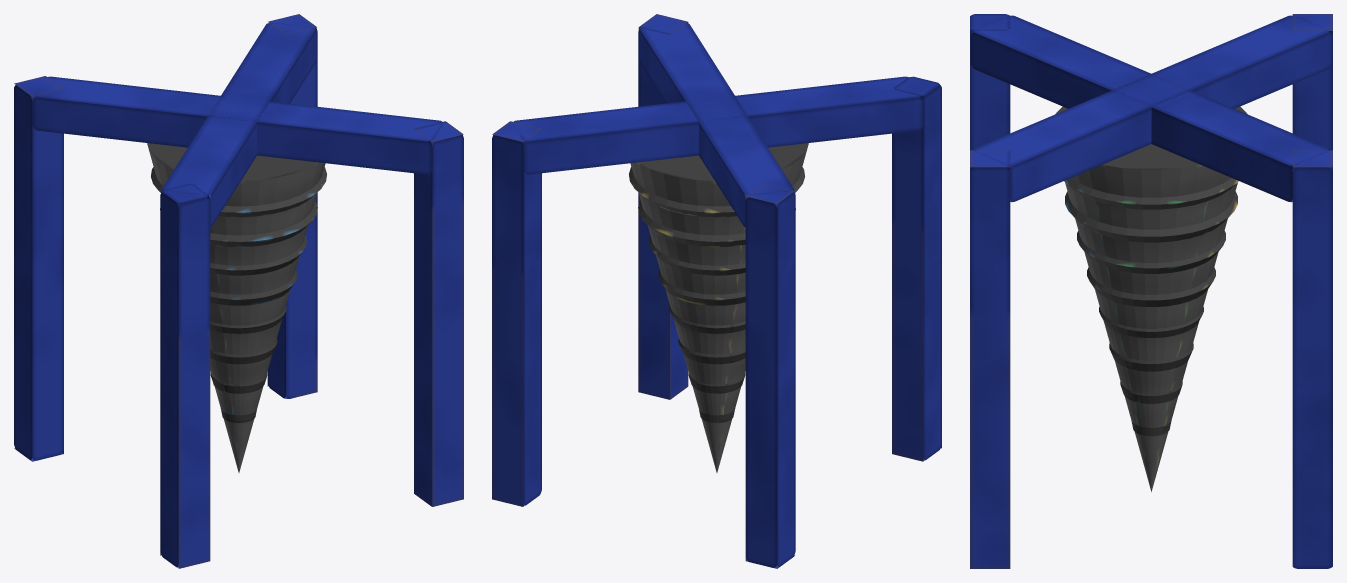
Rendered from drill.fbx.
3 views of the same model, side by side, from view 1: azimuth 30°, elevation 25°; view 2: azimuth 150°, elevation 25°; view 3: azimuth 270°, elevation 25° (orthographic). The views are drawn at different scales.
Parts seen in each view (by area): view 1: cuboid_4, cuboid_1, cuboid_2, cuboid, cone, cuboid_5, cuboid_3, torus, torus_1, torus_3, torus_2, torus_5 (+1 smaller); view 2: cuboid_5, cuboid, cuboid_3, cuboid_1, cone, cuboid_4, cuboid_2, torus, torus_1, torus_3, torus_2, torus_5 (+1 smaller); view 3: cone, cuboid_4, cuboid_5, cuboid_3, cuboid_2, cuboid, cuboid_1, torus_1, torus, torus_2, torus_3, torus_4 (+2 smaller).
Part boxes in pixels (left/top/right/bottom): cuboid_4: left=32, top=76, right=442, bottom=174; cuboid_1: left=160, top=184, right=210, bottom=568; cuboid_2: left=414, top=121, right=463, bottom=506; cuboid: left=14, top=76, right=63, bottom=461; cone: left=147, top=143, right=325, bottom=472; cuboid_5: left=161, top=22, right=317, bottom=227; cuboid_3: left=267, top=14, right=317, bottom=398; torus: left=151, top=167, right=326, bottom=217; torus_1: left=160, top=200, right=317, bottom=247; torus_3: left=210, top=269, right=297, bottom=305; torus_2: left=210, top=236, right=306, bottom=275; torus_5: left=210, top=338, right=277, bottom=364; cuboid_5: left=513, top=76, right=923, bottom=174; cuboid: left=745, top=183, right=795, bottom=568; cuboid_3: left=492, top=121, right=541, bottom=506; cuboid_1: left=892, top=76, right=941, bottom=461; cone: left=630, top=143, right=808, bottom=472; cuboid_4: left=638, top=22, right=795, bottom=227; cuboid_2: left=638, top=14, right=688, bottom=399; torus: left=629, top=167, right=804, bottom=217; torus_1: left=638, top=200, right=795, bottom=247; torus_3: left=658, top=269, right=745, bottom=305; torus_2: left=649, top=236, right=745, bottom=275; torus_5: left=678, top=338, right=745, bottom=364; cone: left=1055, top=106, right=1247, bottom=491; cuboid_4: left=970, top=15, right=1332, bottom=202; cuboid_5: left=970, top=15, right=1332, bottom=202; cuboid_3: left=1292, top=150, right=1332, bottom=568; cuboid_2: left=970, top=150, right=1010, bottom=568; cuboid: left=1292, top=14, right=1332, bottom=150; cuboid_1: left=970, top=14, right=1010, bottom=150; torus_1: left=1065, top=191, right=1237, bottom=242; torus: left=1064, top=178, right=1238, bottom=209; torus_2: left=1077, top=231, right=1225, bottom=273; torus_3: left=1087, top=267, right=1215, bottom=306; torus_4: left=1099, top=307, right=1203, bottom=337.
Size of the model in its own units: 56.25 by 68.75 by 56.25.
1 material, 1 textured.
